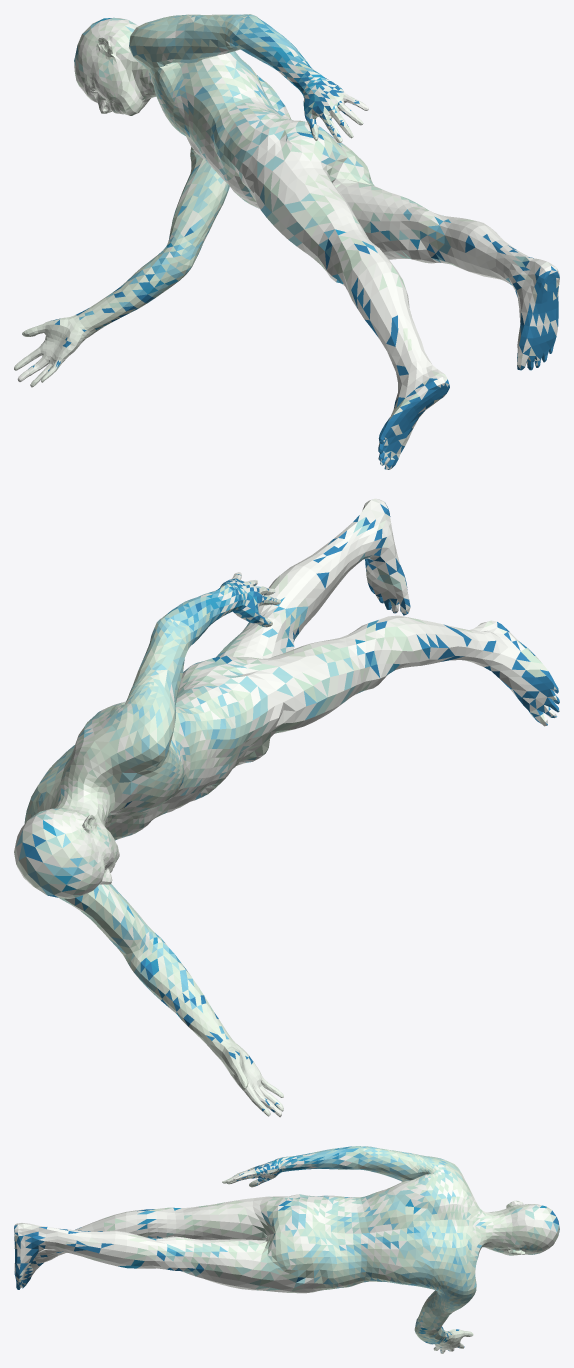
Rendered from spiralconv_ch16_8.glb.
The picture shows the model from 3 angles, top to bottom: view 1: azimuth 30°, elevation 25°; view 2: azimuth 150°, elevation 25°; view 3: azimuth 270°, elevation 25°; orthographic projection. The views are drawn at different scales.
Visible parts, largest first — view 1: imagetostl_mesh0; view 2: imagetostl_mesh0; view 3: imagetostl_mesh0.
Part boxes in pixels (x1,y1,x2,y2): imagetostl_mesh0: [14, 14, 559, 469]; imagetostl_mesh0: [14, 498, 559, 1117]; imagetostl_mesh0: [14, 1146, 559, 1353].
Bounding box in the file's own units: 0.6313 × 0.9344 × 1.76.
